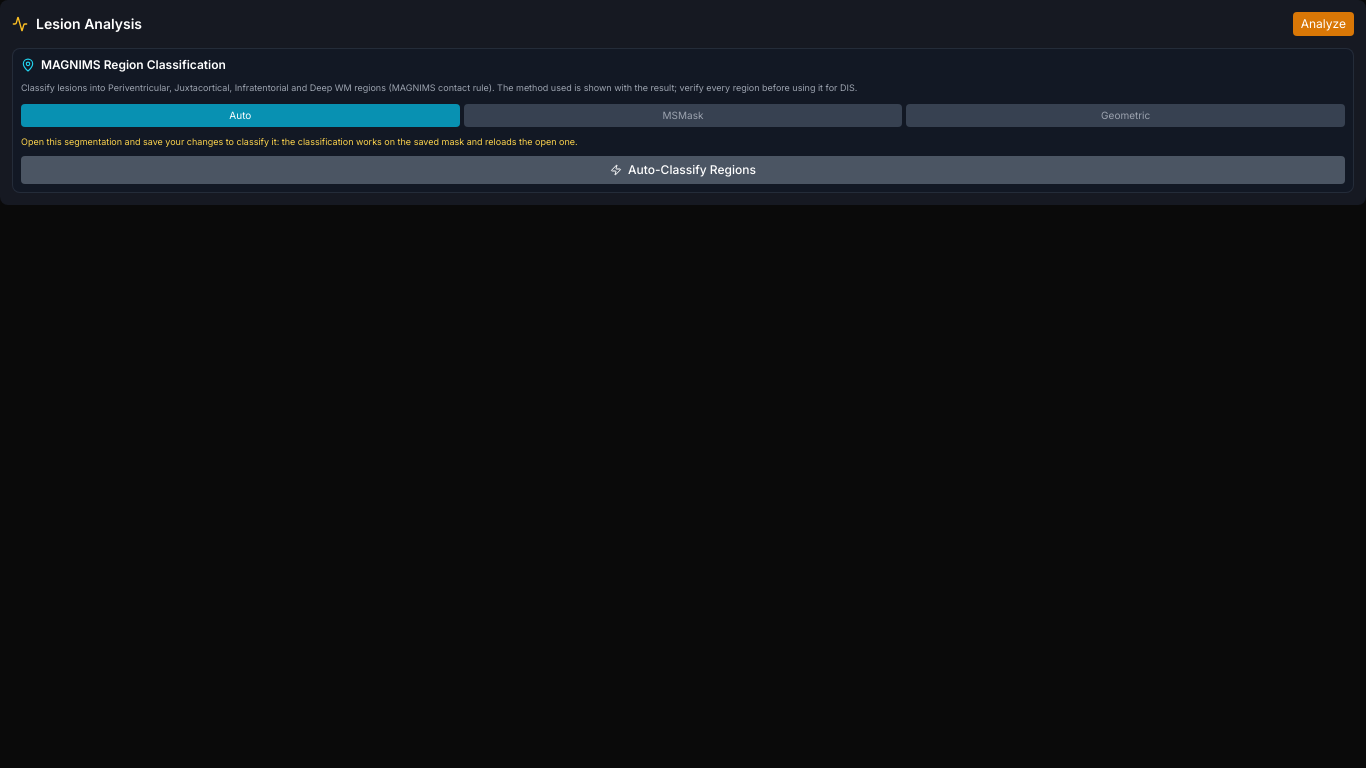
Scenario: blocker 1 / findings 7-8: the DIS card › rc071 review1 the confirmation is offered only on the open segmentation (its mask is the one hashed)
The image size is (1366, 768).
Click the button "Analyze". click: (1323, 24)
box: x1=1293 y1=12 x2=1354 y2=36
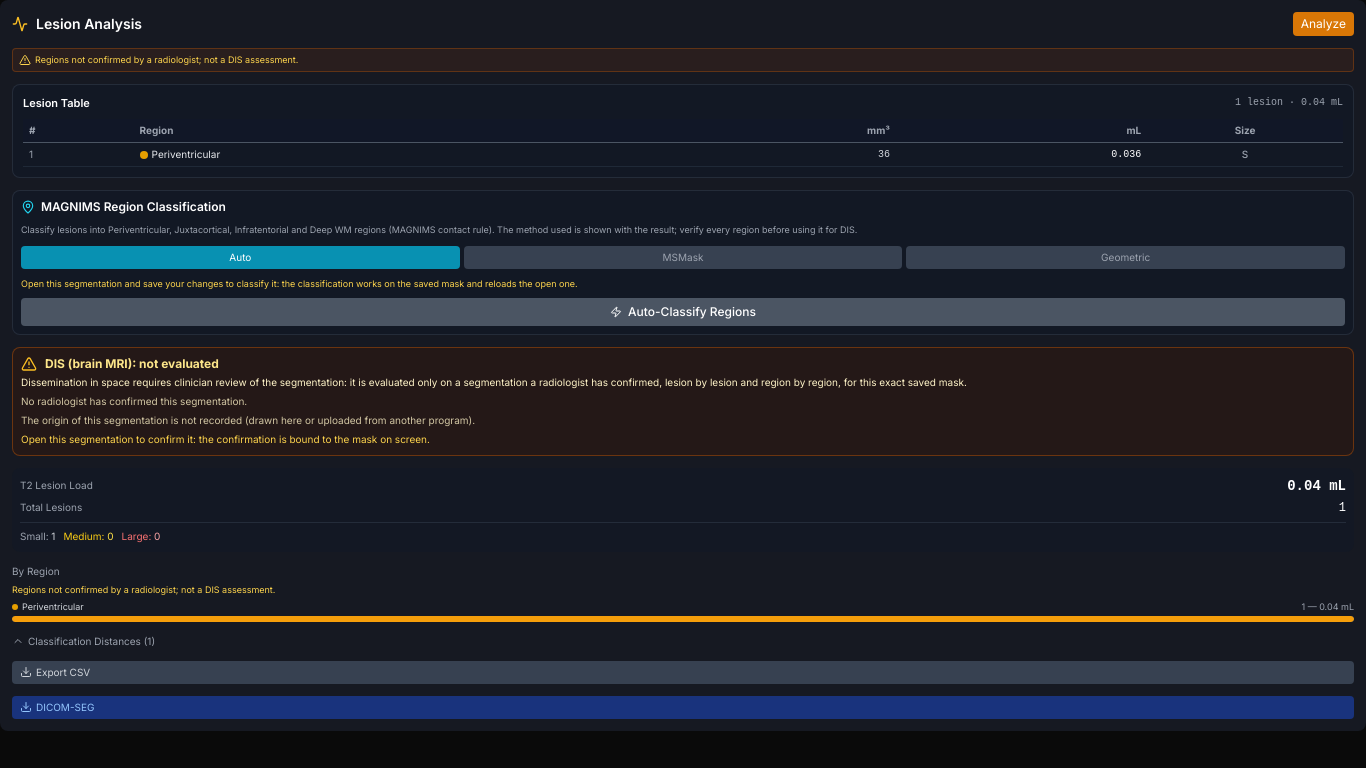
Now the message with test id "dis-not-evaluated" shows "Open this segmentation to confirm it", box x1=21 y1=433 x2=430 y2=445
